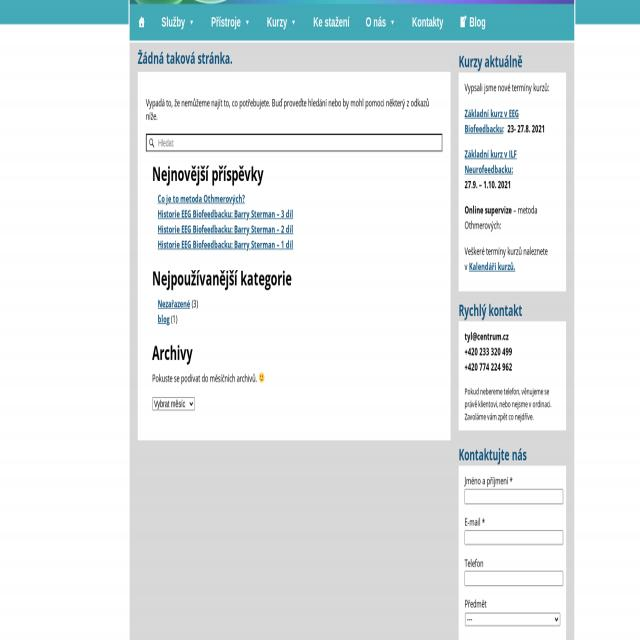button: (203, 4, 259, 41), (305, 4, 358, 41), (153, 4, 203, 41), (404, 4, 452, 41), (259, 4, 306, 41), (358, 4, 404, 41), (452, 4, 494, 41), (130, 4, 153, 41), (146, 137, 158, 150), (259, 372, 265, 383)
field: (146, 134, 442, 152), (465, 489, 563, 504), (465, 530, 563, 545), (465, 571, 563, 586), (465, 613, 561, 626), (152, 397, 195, 410)
